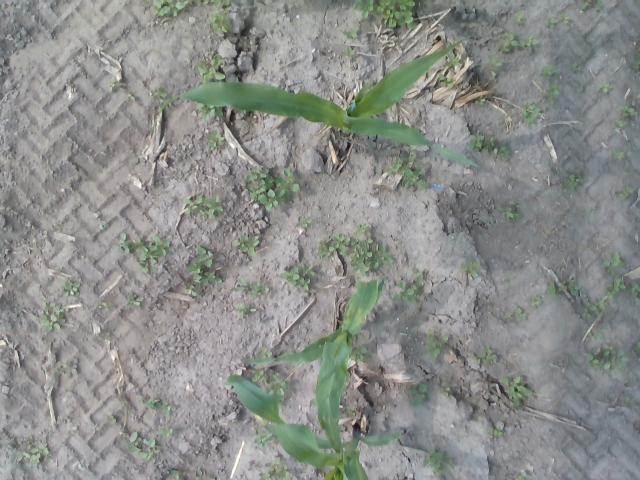Maize: (153, 38, 482, 168), (240, 278, 386, 454), (224, 375, 404, 480)
Weeds: (548, 270, 628, 322), (318, 224, 396, 274), (244, 164, 302, 213), (111, 232, 170, 276), (180, 244, 224, 297), (386, 146, 432, 194), (352, 0, 421, 29), (2, 428, 49, 469), (583, 347, 629, 378), (392, 264, 427, 304), (468, 134, 512, 164), (38, 300, 70, 338), (280, 263, 318, 295), (502, 374, 534, 410), (184, 193, 226, 219), (126, 430, 161, 461), (230, 232, 261, 262), (423, 326, 449, 361), (498, 33, 541, 54), (257, 457, 295, 480), (422, 449, 453, 476), (198, 55, 228, 82), (151, 0, 194, 18), (234, 276, 272, 296), (404, 384, 432, 410), (456, 250, 484, 276), (207, 11, 231, 40), (498, 199, 523, 226), (521, 98, 544, 126), (603, 252, 627, 277), (138, 394, 171, 412), (476, 344, 500, 368), (59, 274, 82, 298), (544, 14, 570, 35), (197, 104, 227, 122), (614, 104, 636, 128), (266, 374, 292, 394), (562, 168, 582, 194), (504, 304, 528, 325), (204, 132, 226, 154), (484, 54, 505, 74), (232, 302, 254, 321), (596, 81, 618, 99), (339, 47, 362, 64), (542, 88, 562, 107), (58, 359, 76, 380), (437, 73, 459, 90), (254, 429, 272, 449), (128, 290, 144, 312), (578, 0, 604, 13), (292, 216, 316, 230), (540, 66, 558, 84), (528, 292, 544, 312), (444, 54, 466, 68), (342, 28, 362, 42), (198, 0, 232, 8), (352, 346, 369, 361), (628, 280, 640, 301), (631, 48, 640, 74), (96, 302, 115, 314), (486, 426, 505, 438), (154, 86, 170, 100), (439, 382, 452, 399), (255, 348, 273, 360), (616, 188, 634, 200), (612, 148, 626, 163), (158, 425, 174, 438), (501, 274, 518, 286), (516, 11, 528, 27), (590, 330, 606, 342), (250, 368, 264, 381), (571, 61, 583, 76), (588, 198, 598, 214), (98, 220, 111, 232), (108, 80, 120, 92), (344, 406, 356, 417), (170, 469, 183, 479), (474, 98, 487, 108), (104, 414, 118, 423), (190, 469, 203, 477), (128, 94, 138, 102), (516, 473, 527, 480), (635, 341, 640, 355), (208, 477, 217, 480)
